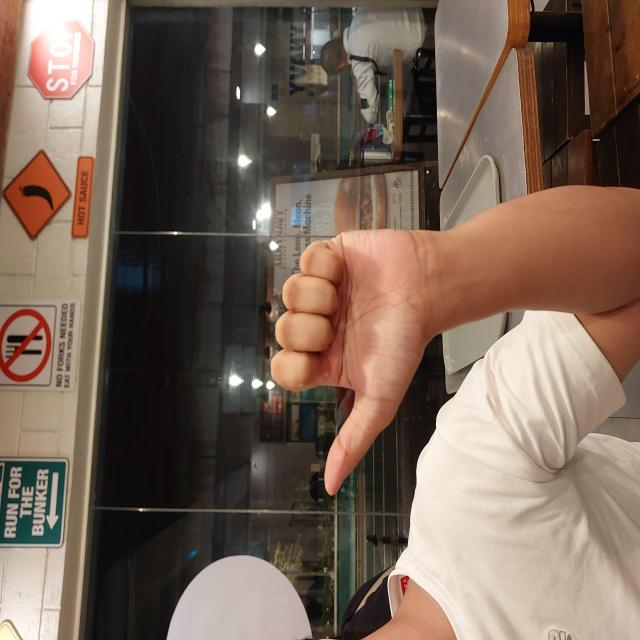E: (143, 268, 414, 433)
